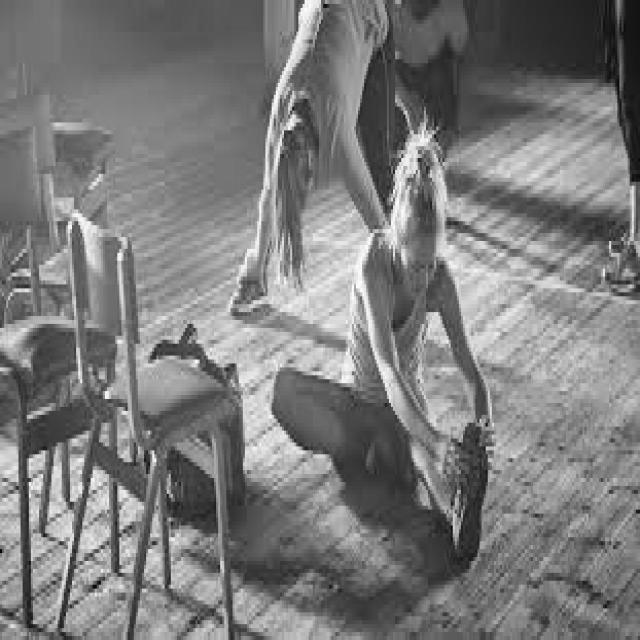chair: (66, 213, 241, 640), (0, 128, 125, 630)
